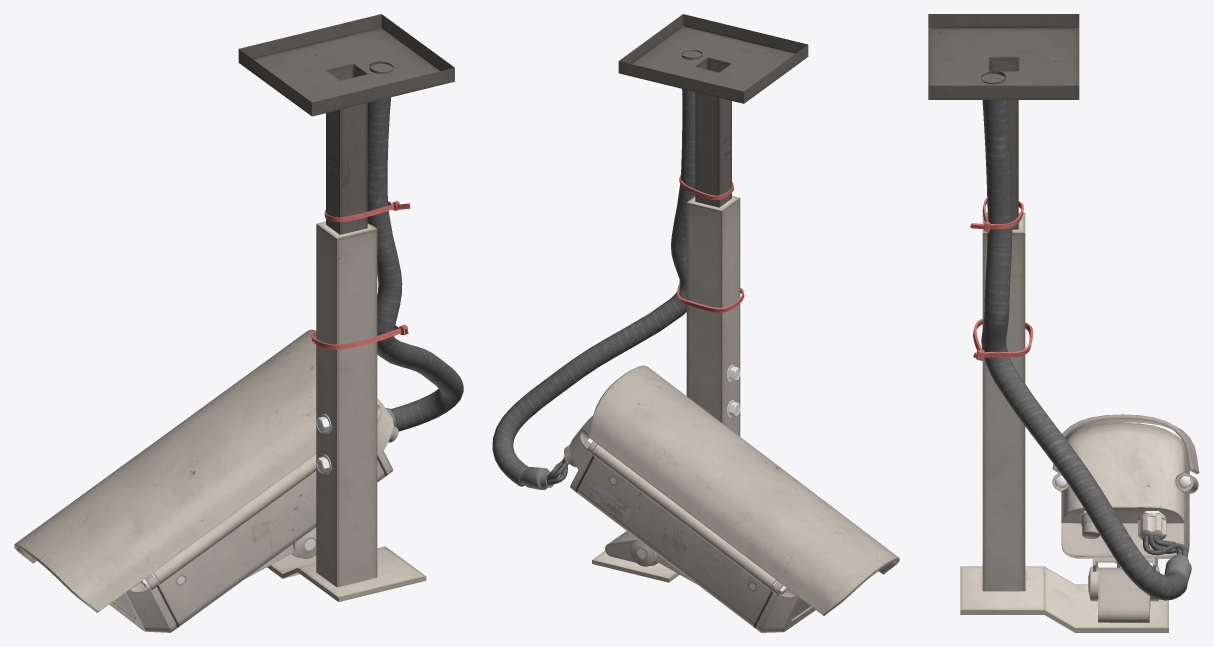
Rendered from SM_Security_Camera_02a.fbx.
3 renders of one model, left to right at view 1: azimuth 30°, elevation 25°; view 2: azimuth 150°, elevation 25°; view 3: azimuth 270°, elevation 25°, orthographic. The views are drawn at different scales.
Parts seen in each view (by area): view 1: SM_Security_Camera_02a; view 2: SM_Security_Camera_02a; view 3: SM_Security_Camera_02a.
Part boxes in pixels (left/top/right/bottom): SM_Security_Camera_02a: left=14, top=14, right=463, bottom=632; SM_Security_Camera_02a: left=492, top=14, right=899, bottom=632; SM_Security_Camera_02a: left=928, top=14, right=1199, bottom=632.
Bounding box in the file's own units: 54.41 × 28.71 × 67.86.
Materials: 2 (1 with a texture image).
